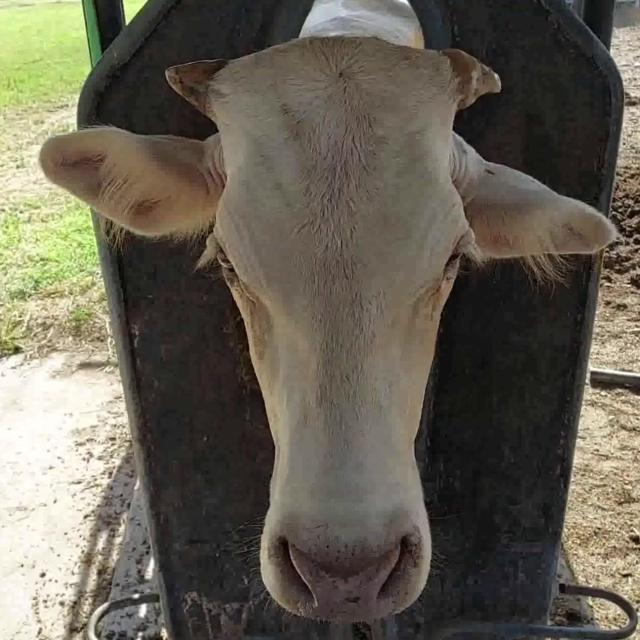cowFace: (210, 34, 470, 622)
